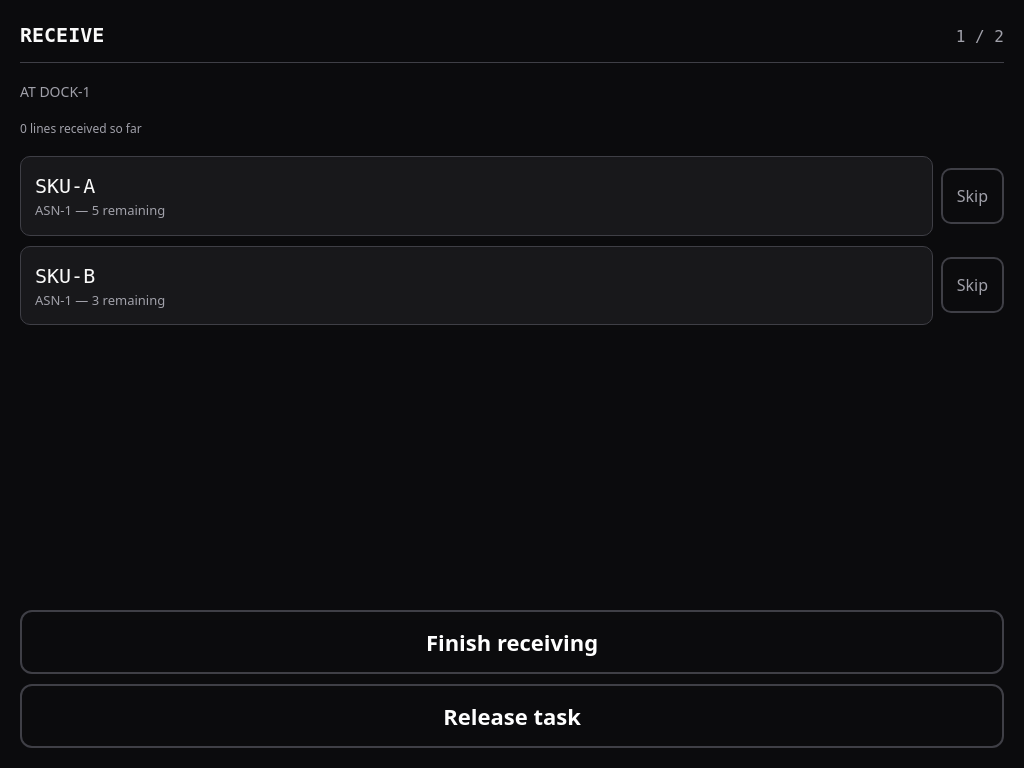
finish receiving early reaches done with lines still open
Click the button "Finish receiving".
click(512, 642)  # box [20,610,1004,674]
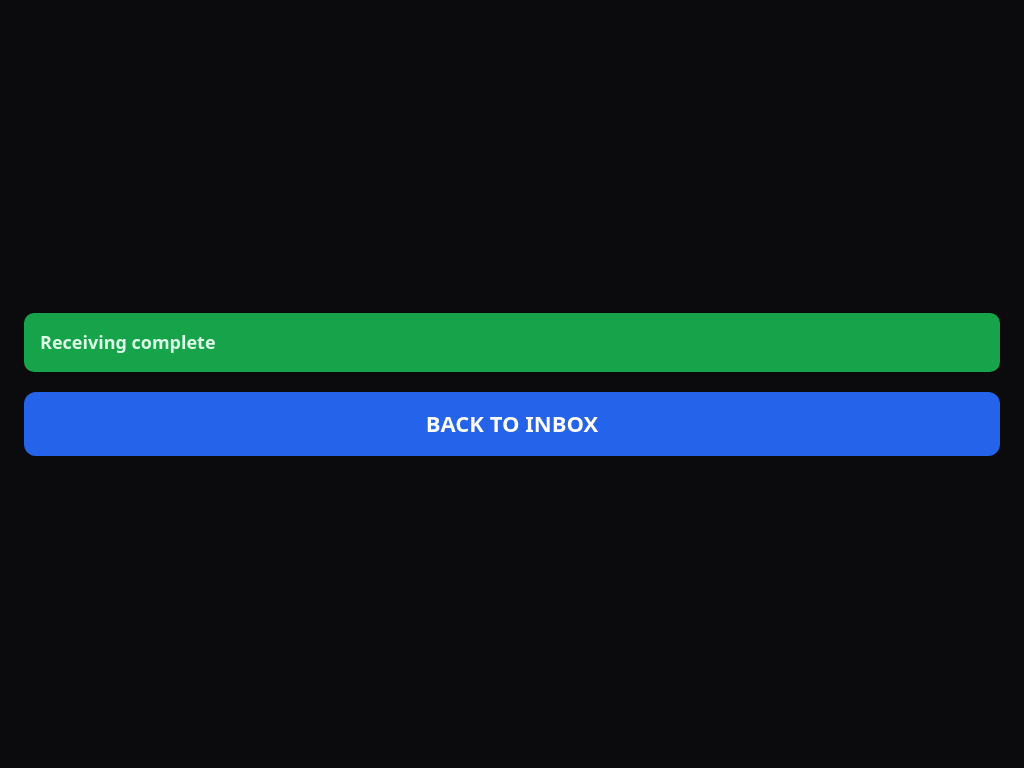
expect the text "Receiving complete" is shown: met, box [24,312,1000,372]
